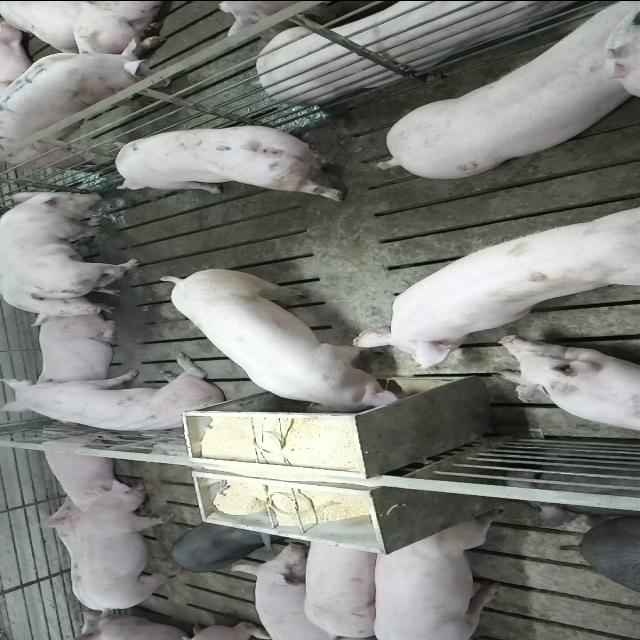Feeding: (160, 271, 408, 421)
Sitting: (4, 354, 227, 436), (2, 190, 145, 312), (2, 188, 138, 248)
Standing: (373, 5, 634, 184), (372, 202, 636, 374), (0, 32, 192, 166), (110, 122, 352, 201), (372, 514, 510, 638), (78, 479, 186, 614), (235, 542, 353, 640), (305, 532, 380, 636), (168, 522, 270, 574)
Sternal_lying: (247, 0, 588, 101), (495, 337, 640, 437), (36, 430, 132, 510), (34, 310, 122, 390)
